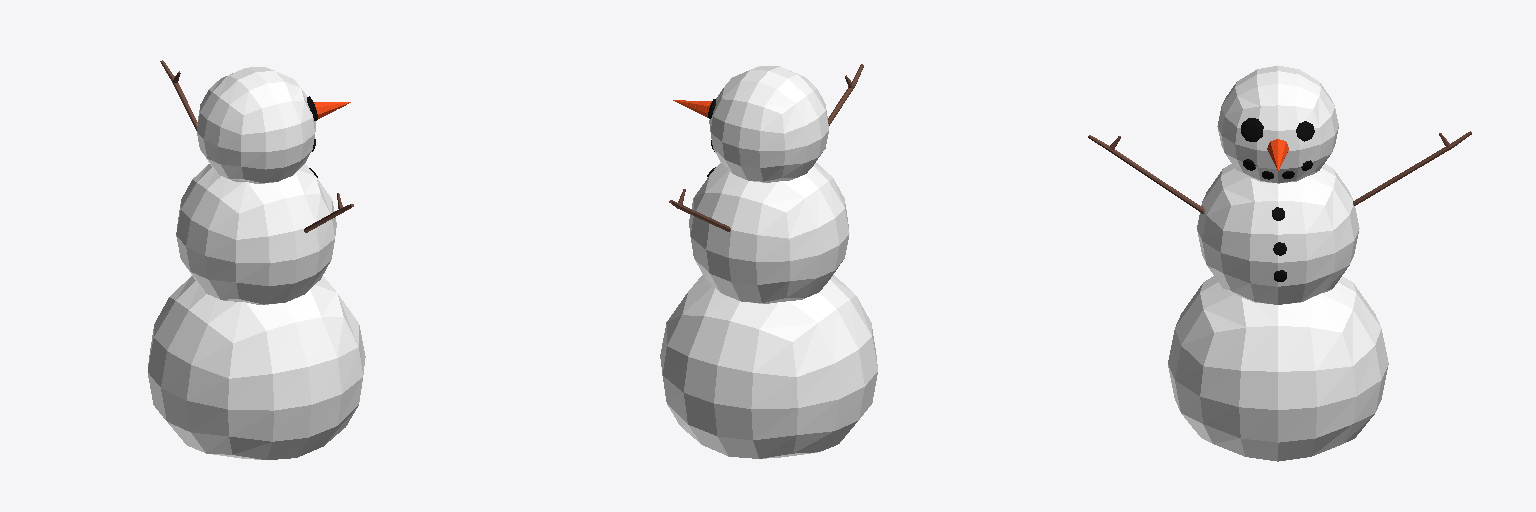
The model's file is Snowman_01.obj.
3 views of the same model, side by side, from view 1: azimuth 30°, elevation 25°; view 2: azimuth 150°, elevation 25°; view 3: azimuth 270°, elevation 25° (orthographic).
Parts seen in each view (by area): view 1: Snowman_Roundcube; view 2: Snowman_Roundcube; view 3: Snowman_Roundcube.
Part boxes in pixels (x1,y1,x2,y2): Snowman_Roundcube: (148, 60, 365, 459); Snowman_Roundcube: (660, 64, 877, 458); Snowman_Roundcube: (1088, 66, 1471, 461).
Size of the model in its own units: 5.35 by 9.84 by 9.29.